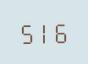five: (18, 20, 34, 44)
one: (36, 20, 52, 43)
six: (53, 19, 69, 43)
